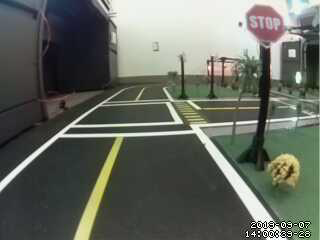Stop_Sign: (241, 3, 284, 48)
